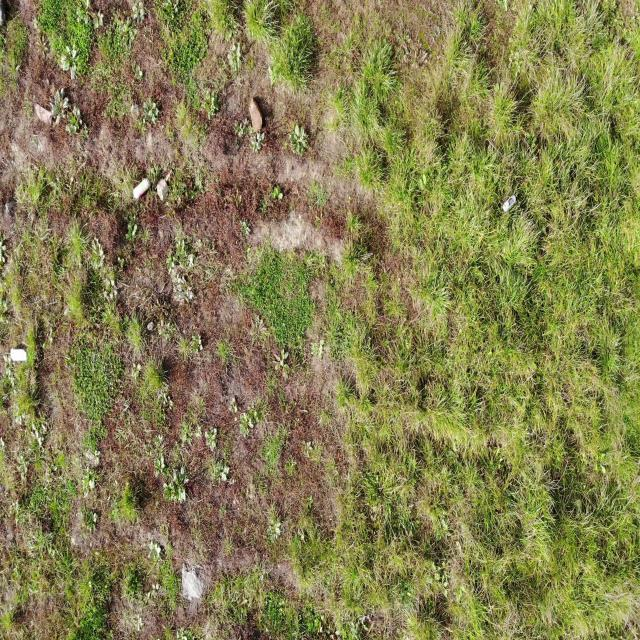rubbish: (131, 179, 150, 201), (502, 193, 517, 214), (8, 349, 27, 363)
